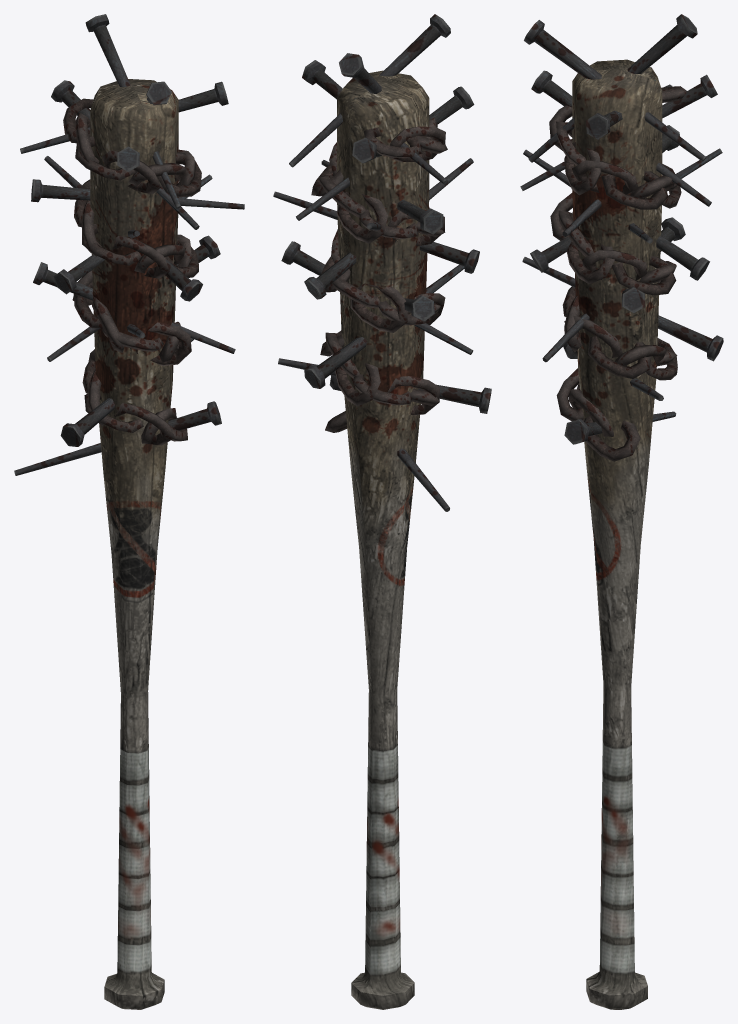
File: ratstick.FBX
The picture shows the model from 3 angles, left to right: view 1: azimuth 30°, elevation 25°; view 2: azimuth 150°, elevation 25°; view 3: azimuth 270°, elevation 25°; orthographic projection. The views are drawn at different scales.
Visible parts, largest first — view 1: RatStick; view 2: RatStick; view 3: RatStick.
Part boxes in pixels (<box>): RatStick: <box>14,14,244,1009</box>; RatStick: <box>273,14,491,1009</box>; RatStick: <box>520,14,723,1009</box>.
Size of the model in its own units: 8.11 by 7.53 by 40.12.
Materials: 1 (1 with a texture image).
